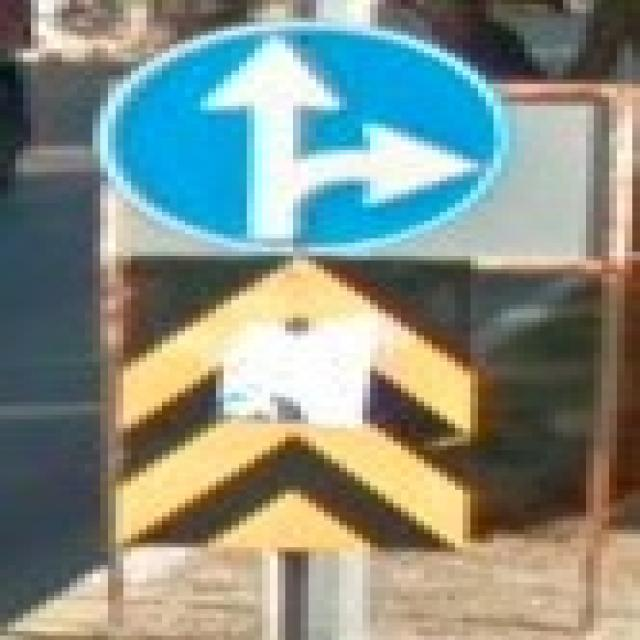Straight or Right: (105, 23, 506, 257)
